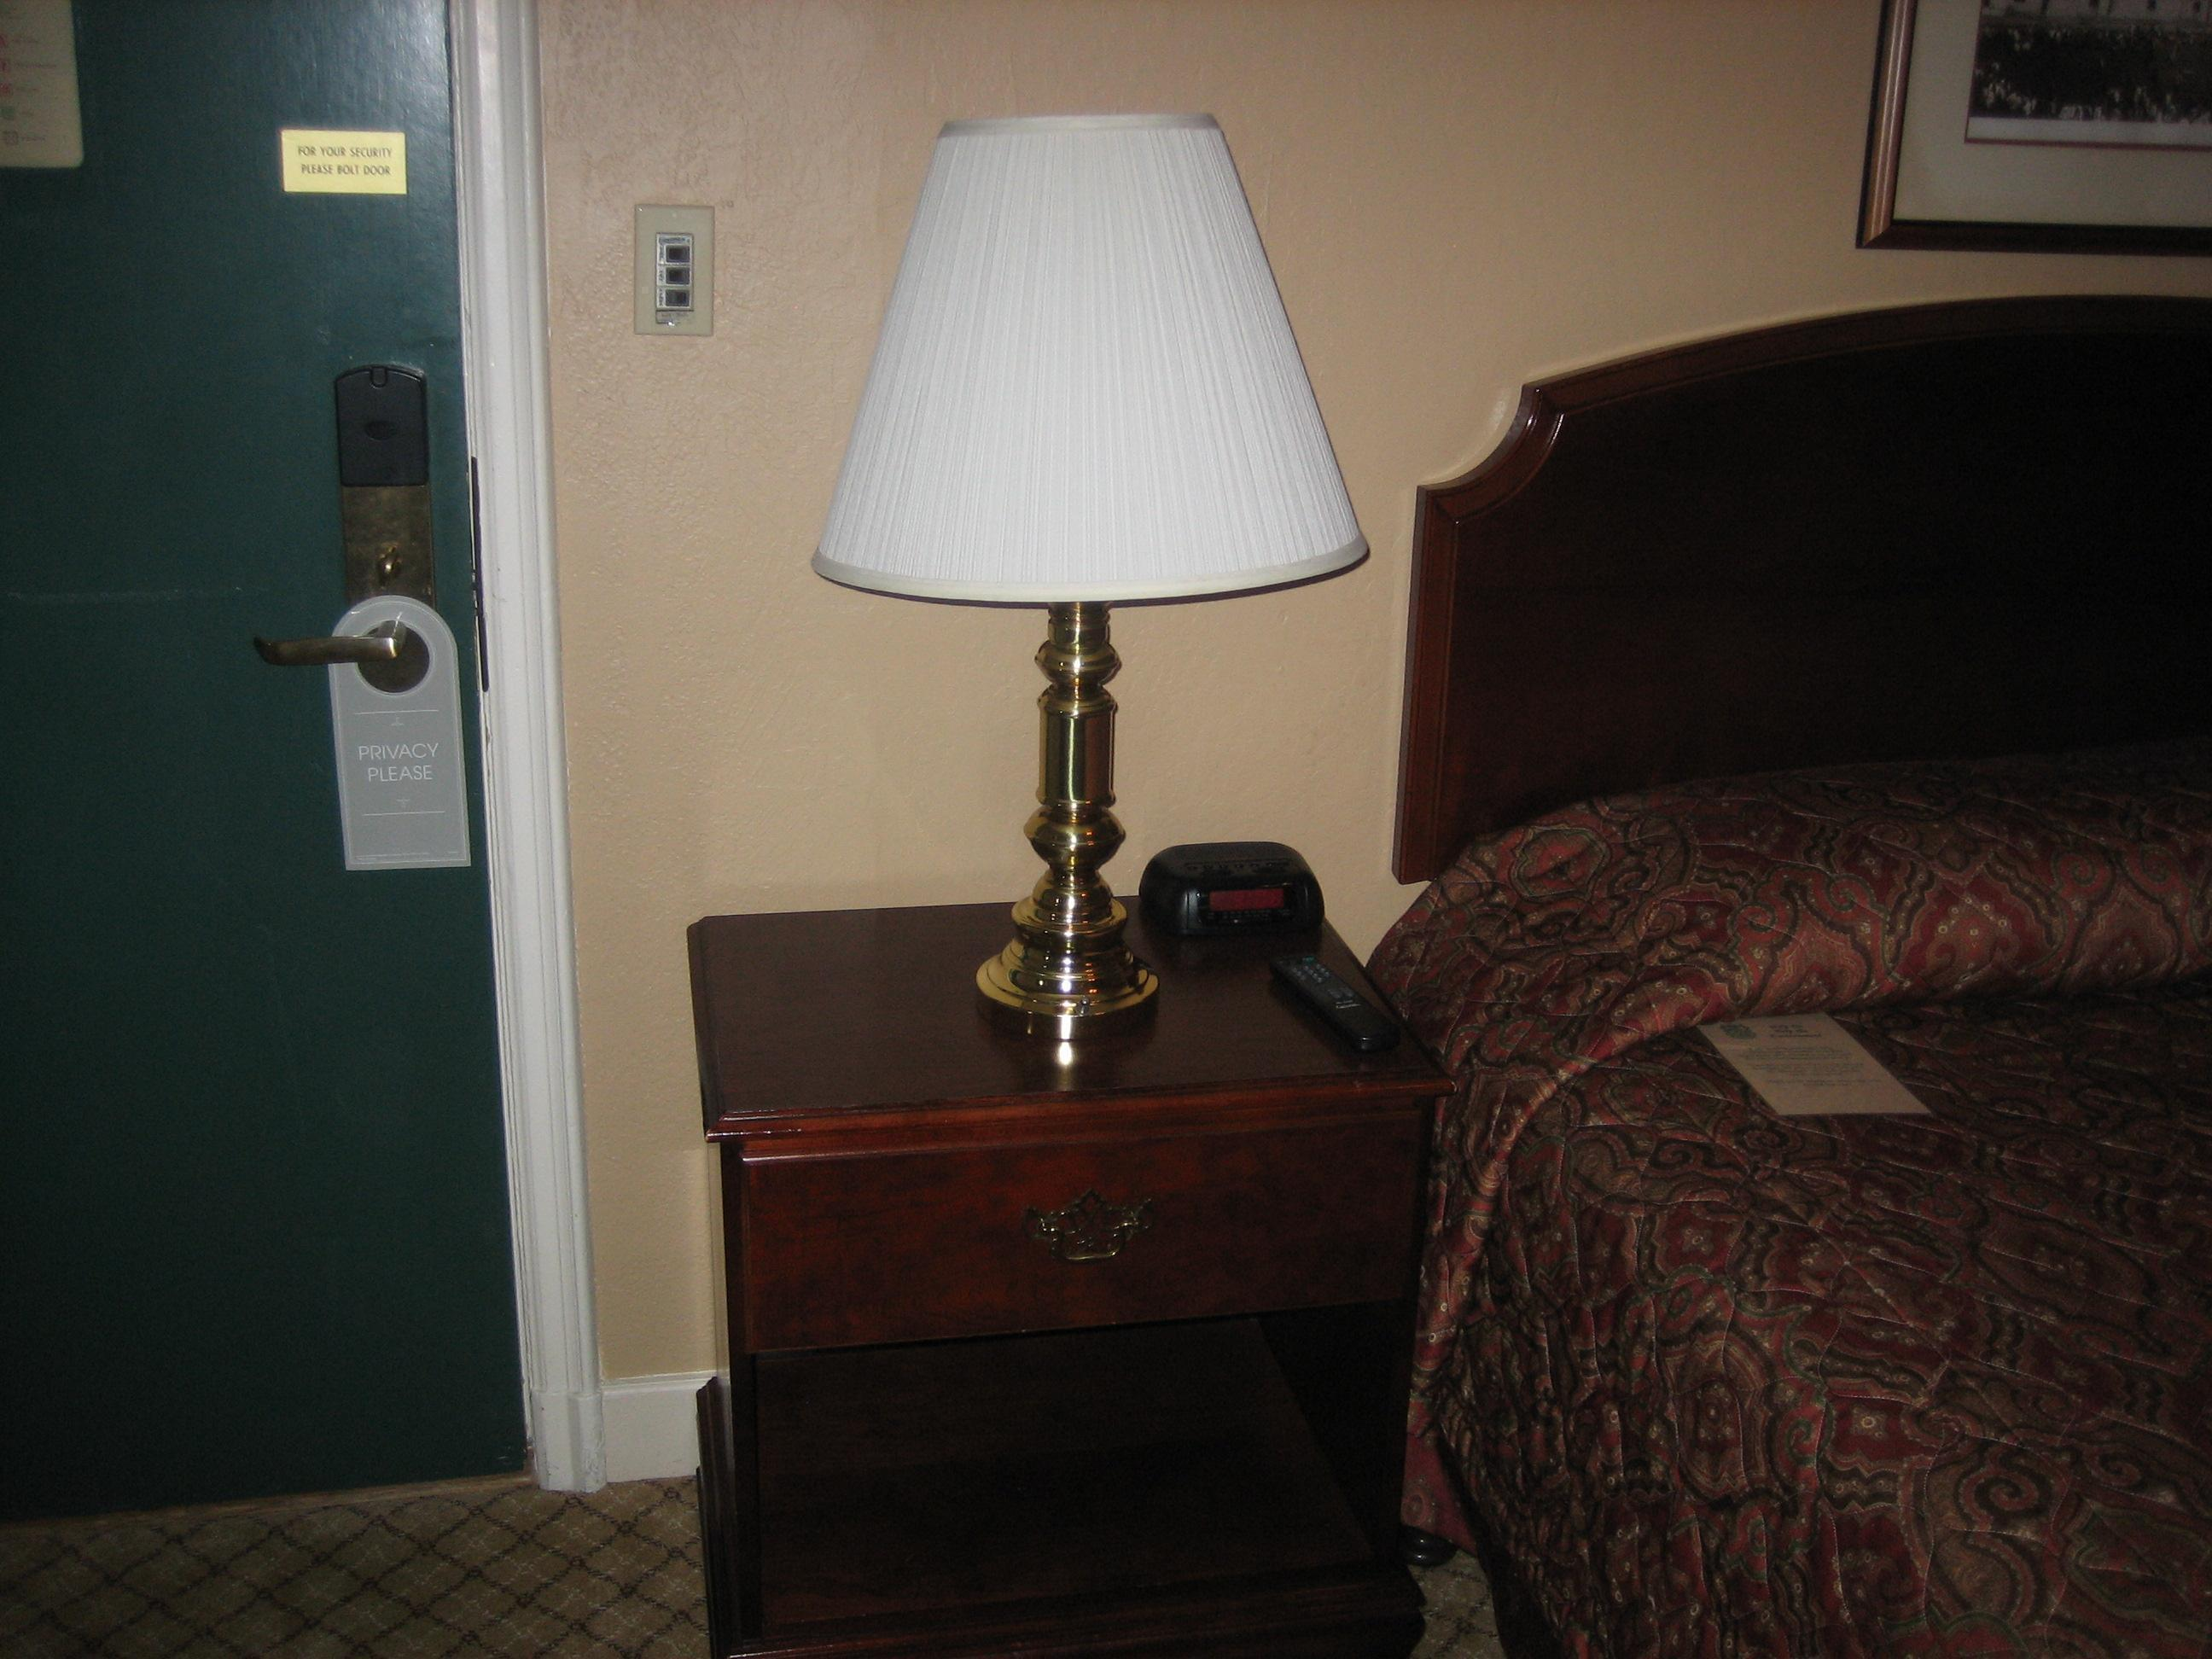Cama: (1472, 338, 2198, 1650)
Puerta: (19, 9, 563, 1497)
